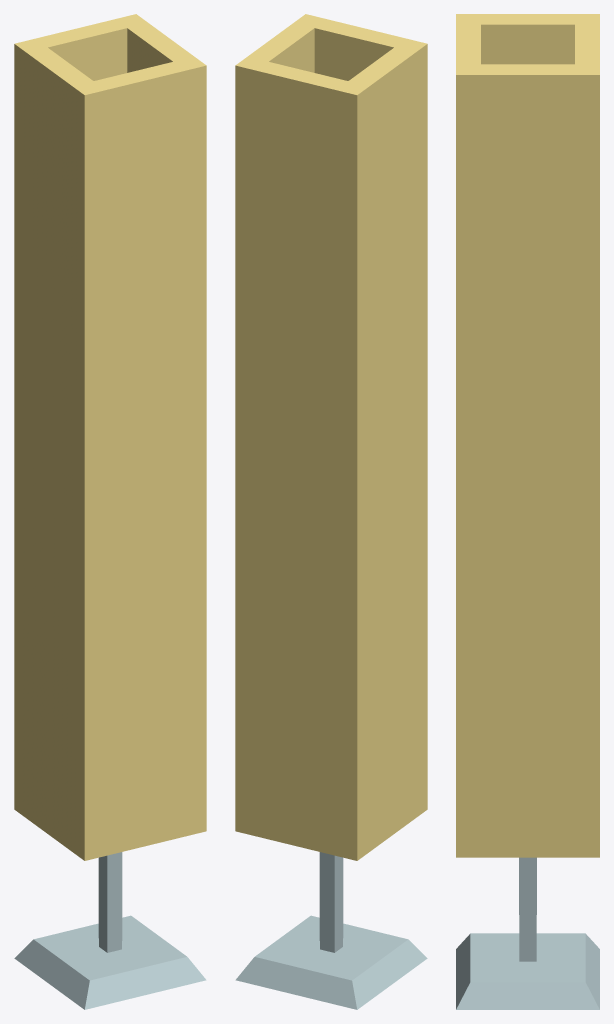
The model's file is lampSquareFloor.fbx.
3 views of the same model, side by side, from view 1: azimuth 30°, elevation 25°; view 2: azimuth 150°, elevation 25°; view 3: azimuth 270°, elevation 25° (orthographic). The views are drawn at different scales.
Visible parts, largest first — view 1: lampSquareFloor; view 2: lampSquareFloor; view 3: lampSquareFloor.
Boxes of the visible parts, left/top/right/bottom form: lampSquareFloor: left=14, top=14, right=206, bottom=1009; lampSquareFloor: left=235, top=14, right=427, bottom=1009; lampSquareFloor: left=456, top=14, right=599, bottom=1009.
Bounding box in the file's own units: 1.2 × 8.6 × 1.2.
